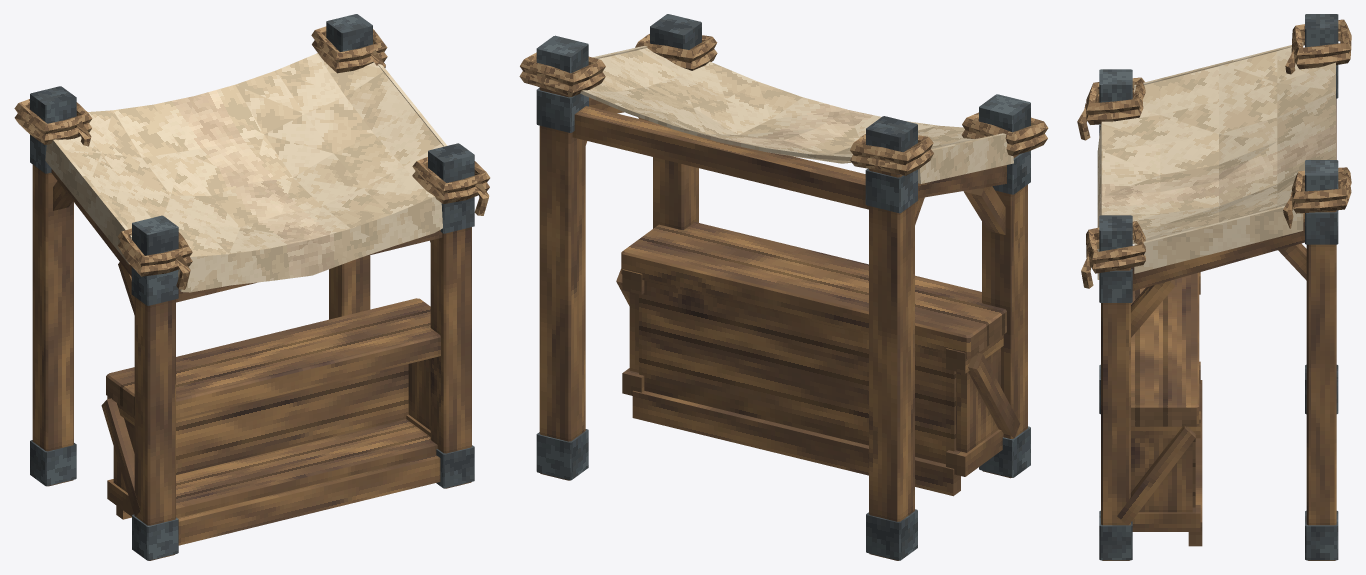
File: pixel-fantasy-canvas-market-stall.glb
3 views of the same model, side by side, from view 1: azimuth 30°, elevation 25°; view 2: azimuth 150°, elevation 25°; view 3: azimuth 270°, elevation 25° (orthographic). The views are drawn at different scales.
Visible parts, largest first — view 1: StallFrame, Canopy; view 2: StallFrame, Canopy; view 3: StallFrame, Canopy.
Boxes of the visible parts, x1,y1,x2,y2 form: StallFrame: [30, 14, 474, 560]; Canopy: [14, 26, 490, 292]; StallFrame: [536, 14, 1030, 560]; Canopy: [519, 34, 1048, 183]; StallFrame: [1099, 14, 1338, 560]; Canopy: [1077, 19, 1351, 288].
Bounding box in the file's own units: 2.77 × 2.88 × 1.85.
1 material, 1 textured.
